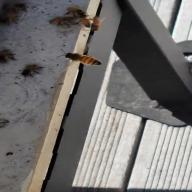Bee: (49, 6, 97, 32), (57, 48, 112, 70)
